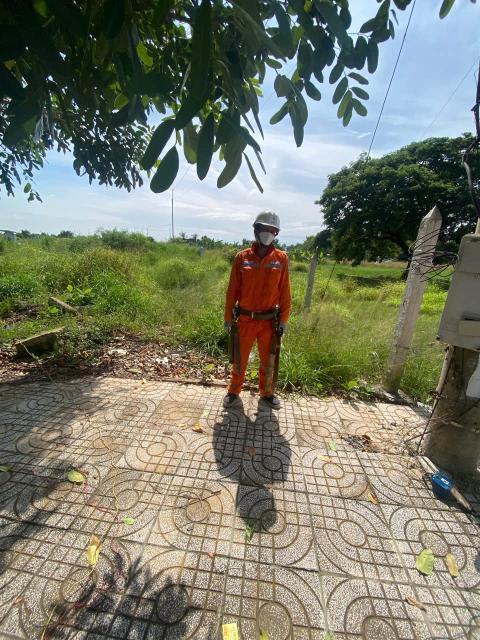gloves: (219, 314, 237, 336), (273, 320, 292, 340)
harness: (230, 301, 284, 325)
helmet: (253, 206, 286, 234)
shoes: (256, 390, 284, 412), (217, 390, 240, 412)
